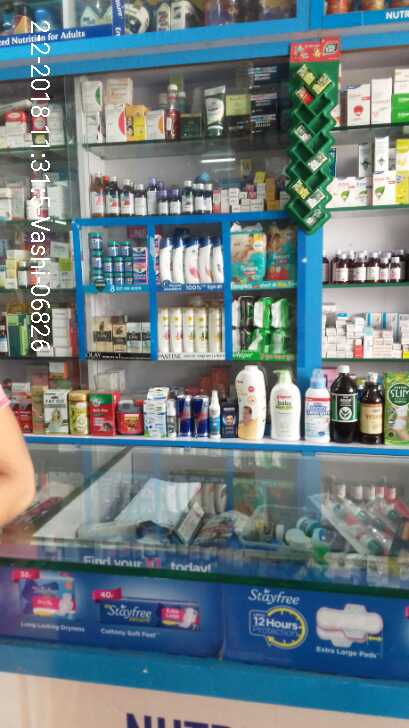beauty: (149, 289, 222, 360), (154, 228, 224, 285), (92, 318, 148, 350)
pharmacy: (86, 224, 152, 285), (231, 231, 260, 277), (108, 238, 130, 258), (87, 230, 103, 251), (132, 264, 148, 284), (130, 246, 146, 263), (88, 249, 100, 271), (102, 258, 112, 275), (111, 260, 123, 274)
